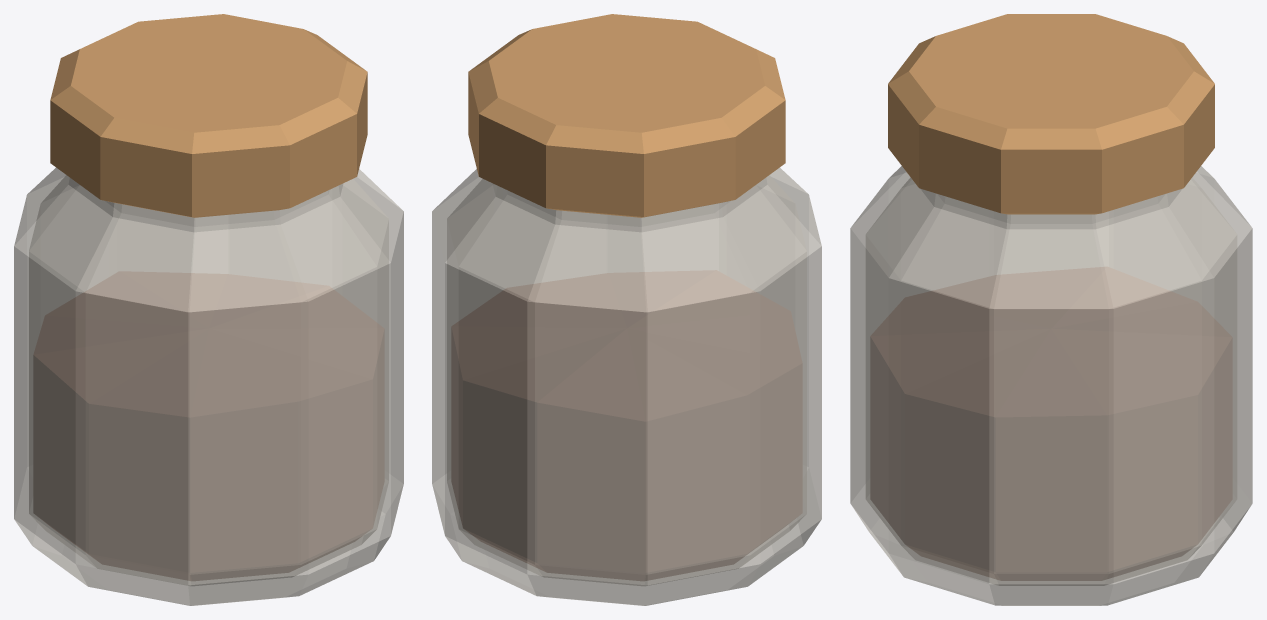
Rendered from 04-glass-spice-jar.glb.
3 renders of one model, left to right at view 1: azimuth 30°, elevation 25°; view 2: azimuth 150°, elevation 25°; view 3: azimuth 270°, elevation 25°, orthographic.
Parts seen in each view (by area): view 1: 01 Glass jar - thick hollow wall, 03 Cinnamon - uneven fill surface, 02 Faceted tan lid; view 2: 01 Glass jar - thick hollow wall, 03 Cinnamon - uneven fill surface, 02 Faceted tan lid; view 3: 01 Glass jar - thick hollow wall, 03 Cinnamon - uneven fill surface, 02 Faceted tan lid.
Boxes of the visible parts, bbox=[...] form: 01 Glass jar - thick hollow wall: bbox=[14, 167, 403, 605]; 03 Cinnamon - uneven fill surface: bbox=[33, 271, 384, 580]; 02 Faceted tan lid: bbox=[50, 14, 367, 217]; 01 Glass jar - thick hollow wall: bbox=[432, 167, 821, 605]; 03 Cinnamon - uneven fill surface: bbox=[451, 270, 802, 580]; 02 Faceted tan lid: bbox=[468, 14, 785, 217]; 01 Glass jar - thick hollow wall: bbox=[850, 166, 1252, 605]; 03 Cinnamon - uneven fill surface: bbox=[870, 267, 1232, 580]; 02 Faceted tan lid: bbox=[888, 14, 1214, 214].
Size of the model in its own units: 1.64 by 2.23 by 1.72.
